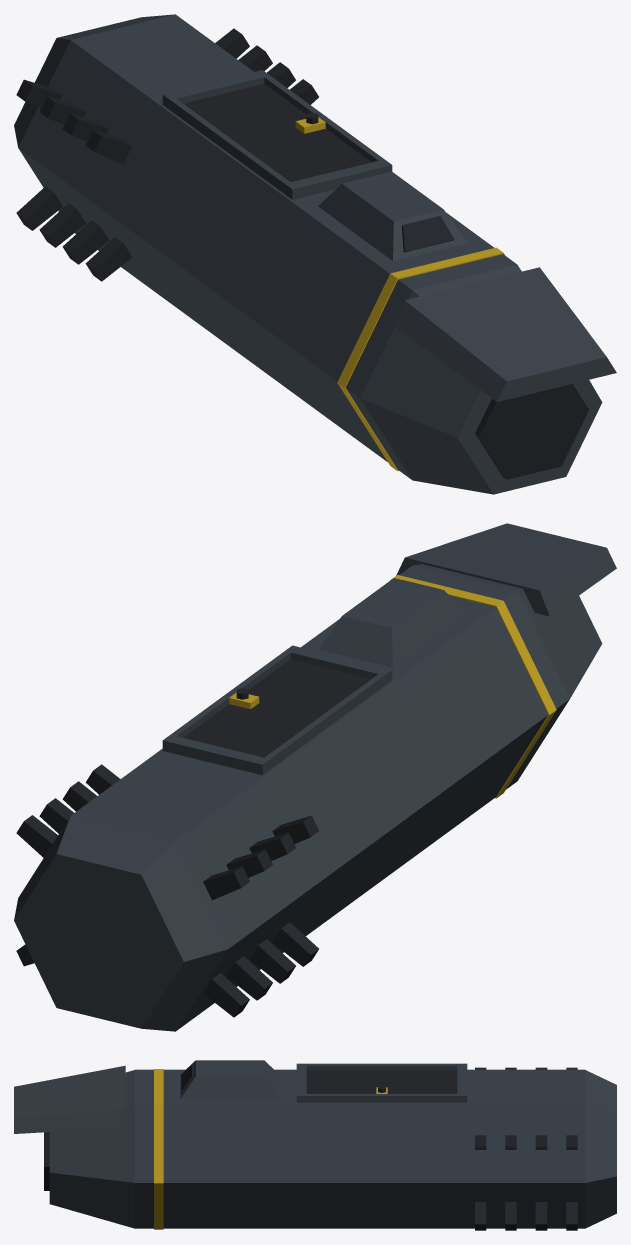
The model's file is bt4_emitter.obj.
The picture shows the model from 3 angles, top to bottom: view 1: azimuth 30°, elevation 25°; view 2: azimuth 150°, elevation 25°; view 3: azimuth 270°, elevation 25°; orthographic projection. The views are drawn at different scales.
Visible parts, largest first — view 1: bt4_emitter; view 2: bt4_emitter; view 3: bt4_emitter.
Part boxes in pixels (left/top/right/bottom): bt4_emitter: left=14, top=14, right=616, bottom=494; bt4_emitter: left=14, top=523, right=616, bottom=1031; bt4_emitter: left=14, top=1060, right=616, bottom=1230.
Size of the model in its own units: 0.9011 by 0.8391 by 3.17.
